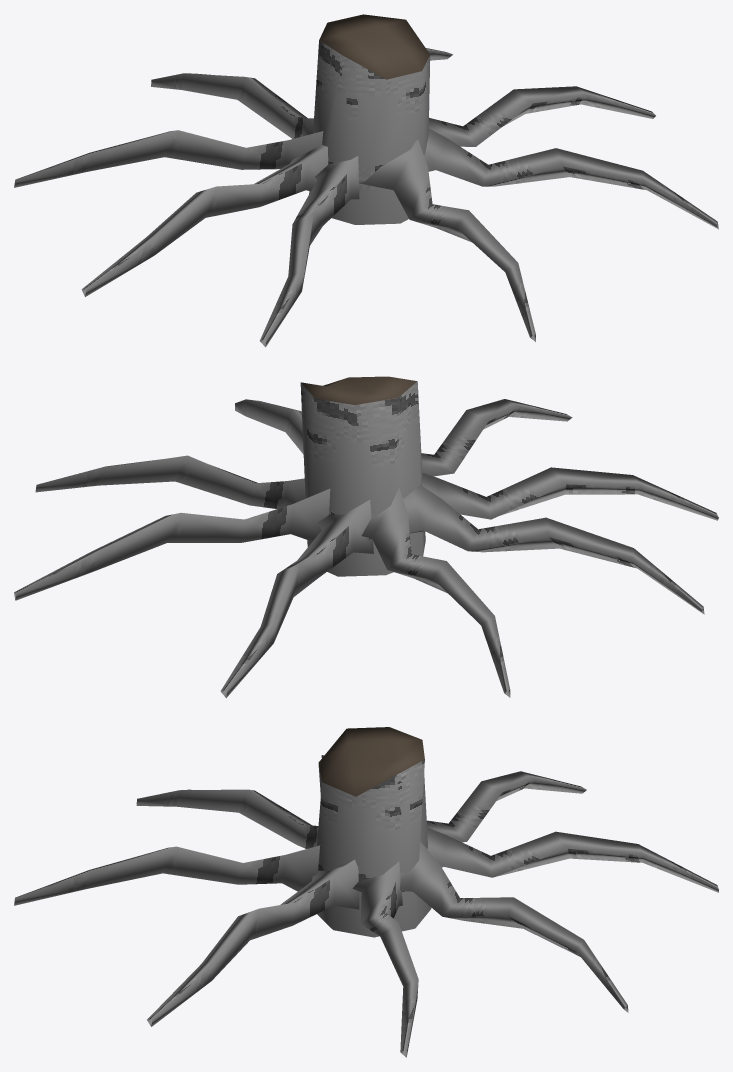
The model's file is BirchStump.fbx.
The picture shows the model from 3 angles, top to bottom: view 1: azimuth 30°, elevation 25°; view 2: azimuth 150°, elevation 25°; view 3: azimuth 270°, elevation 25°; orthographic projection. The views are drawn at different scales.
Parts seen in each view (by area): view 1: tree.006; view 2: tree.006; view 3: tree.006.
Boxes of the visible parts, x1,y1,x2,y2 form: tree.006: (14,14,718,347); tree.006: (14,376,718,698); tree.006: (14,727,718,1057).
Size of the model in its own units: 399 by 106 by 406.
